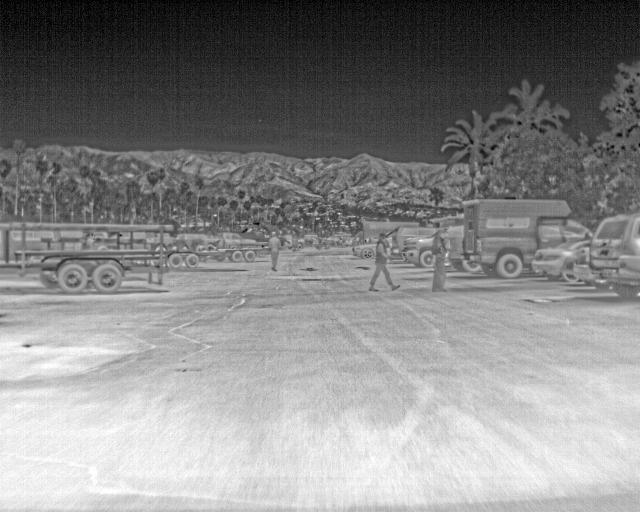bicycle: (585, 212, 639, 300), (528, 239, 588, 281), (442, 230, 481, 275), (393, 227, 441, 258), (406, 237, 436, 268), (572, 243, 592, 285), (217, 230, 261, 246)
empty: (366, 235, 401, 294), (430, 227, 445, 292), (267, 230, 281, 270)
